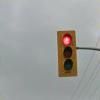Traffic light: (44, 23, 91, 83)
